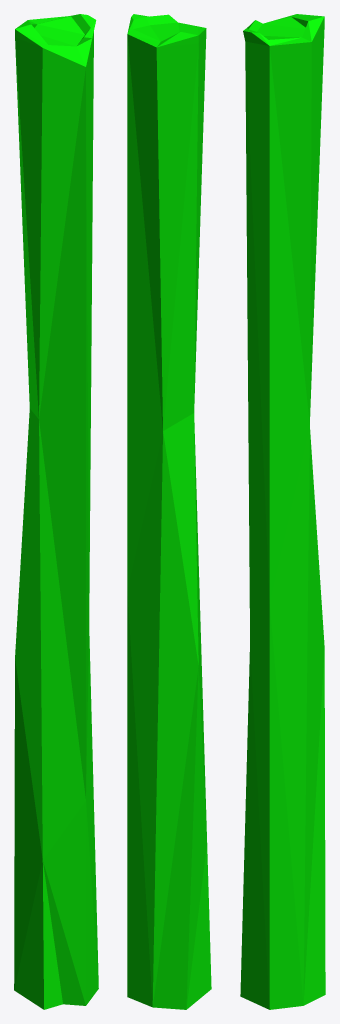
File: SM_Fence_Stick_Pillar.fbx
The picture shows the model from 3 angles, left to right: view 1: azimuth 90°, elevation 25°; view 2: azimuth 210°, elevation 25°; view 3: azimuth 270°, elevation 25°; orthographic projection.
Parts seen in each view (by area): view 1: fence-stick-pillar; view 2: fence-stick-pillar; view 3: fence-stick-pillar.
Part boxes in pixels (x1=…): fence-stick-pillar: x1=14, y1=14, x2=98, y2=1009; fence-stick-pillar: x1=127, y1=14, x2=211, y2=1009; fence-stick-pillar: x1=240, y1=14, x2=325, y2=1009.
Bounding box in the file's own units: 0.1239 × 1.61 × 0.1281.
